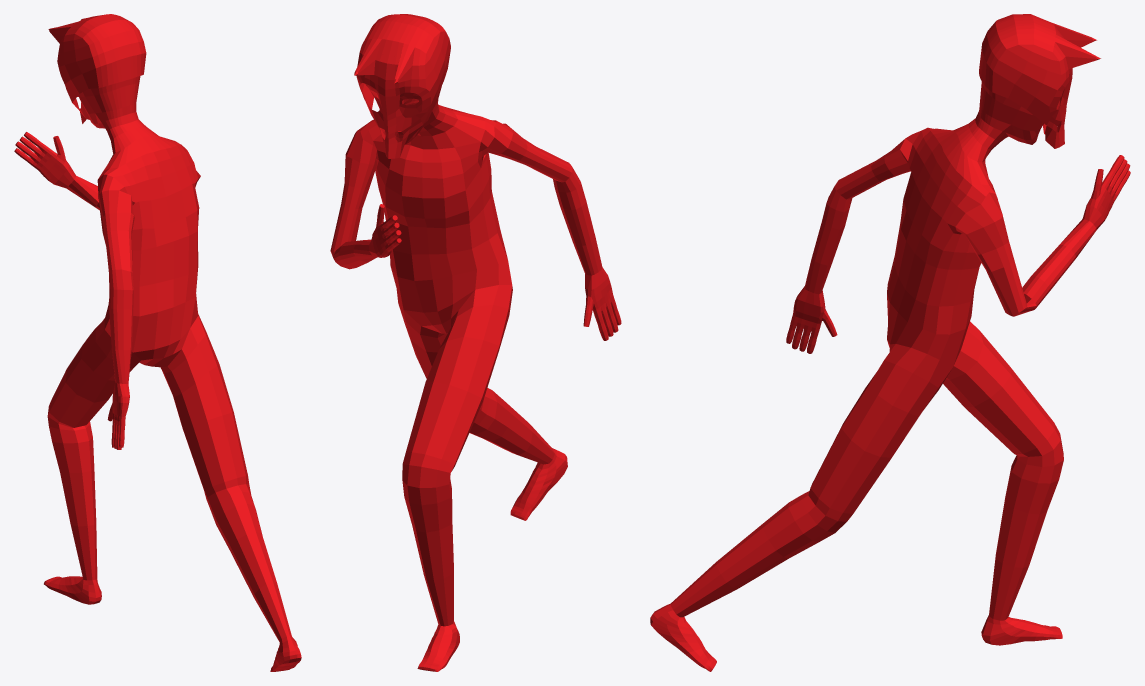
File: marchaE_000043.obj
The picture shows the model from 3 angles, left to right: view 1: azimuth 30°, elevation 25°; view 2: azimuth 150°, elevation 25°; view 3: azimuth 270°, elevation 25°; orthographic projection. The views are drawn at different scales.
Visible parts, largest first — view 1: Plane.002_Plane.001; view 2: Plane.002_Plane.001; view 3: Plane.002_Plane.001.
Boxes of the visible parts, x1,y1,x2,y2 form: Plane.002_Plane.001: (14, 14, 301, 671); Plane.002_Plane.001: (330, 14, 621, 671); Plane.002_Plane.001: (650, 14, 1130, 671).
Bounding box in the file's own units: 1.91 × 6.42 × 4.4.
